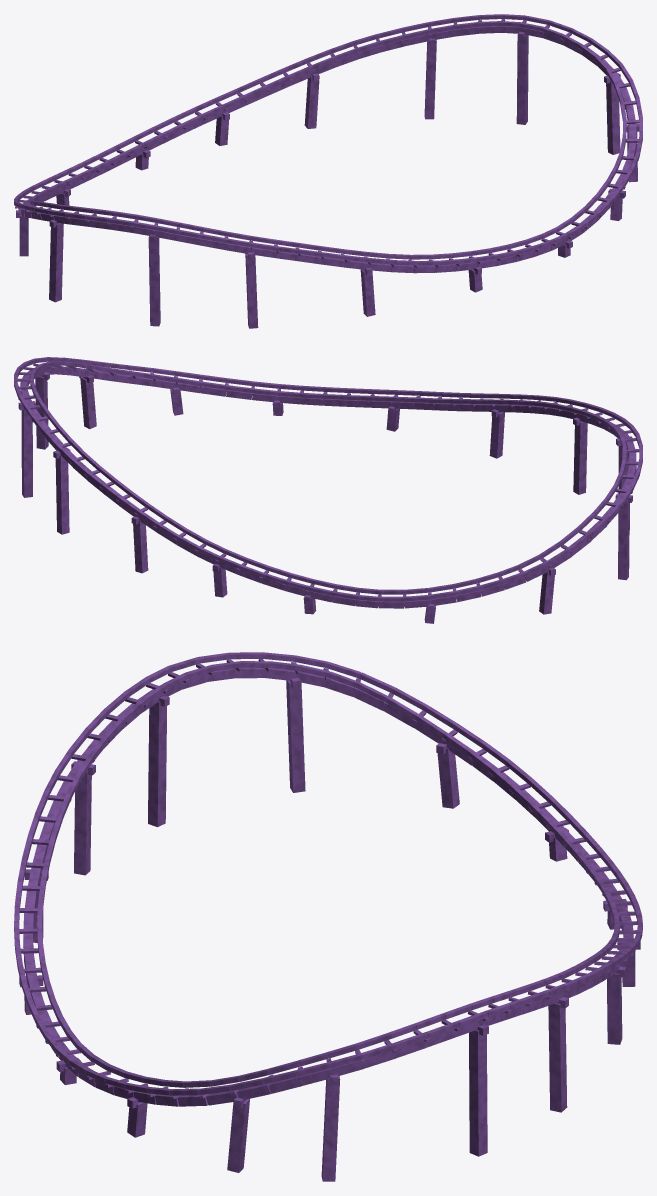
File: StoneExpress_40_Track.fbx
3 views of the same model, one above another, from view 1: azimuth 30°, elevation 25°; view 2: azimuth 150°, elevation 25°; view 3: azimuth 270°, elevation 25° (orthographic). The views are drawn at different scales.
Parts seen in each view (by area): view 1: Rails, Supports; view 2: Rails, Supports; view 3: Rails, Supports.
Boxes of the visible parts, x1,y1,x2,y2 form: Rails: [14, 14, 642, 273]; Supports: [16, 31, 639, 328]; Rails: [14, 357, 642, 608]; Supports: [18, 372, 632, 623]; Rails: [14, 652, 642, 1106]; Supports: [19, 678, 640, 1181].
Size of the model in its own units: 41.22 by 6.93 by 27.22.
